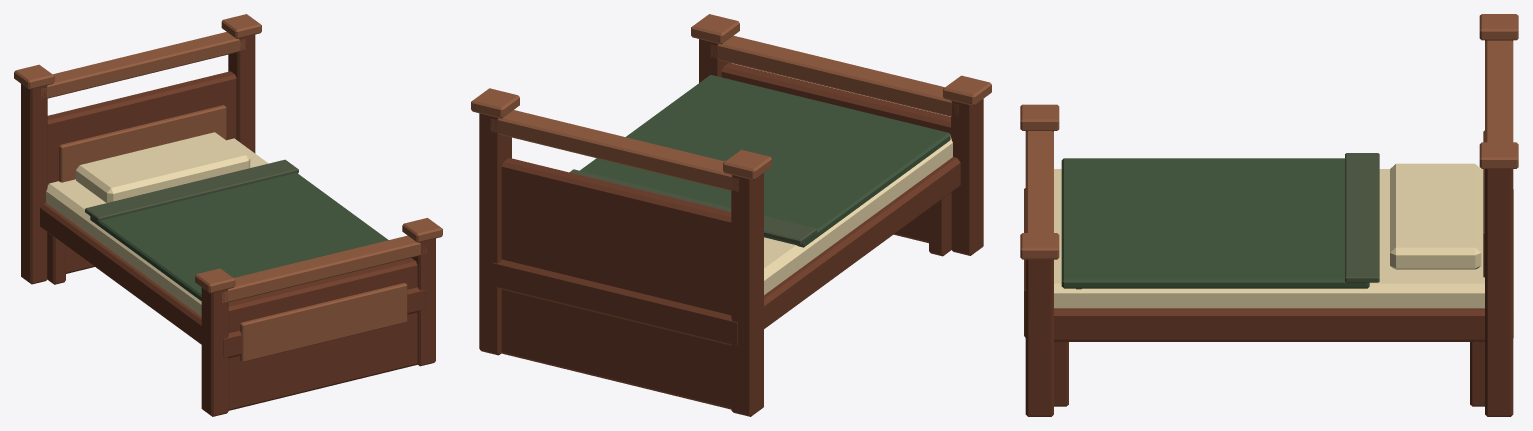
The model's file is bed_02.glb.
3 renders of one model, left to right at view 1: azimuth 30°, elevation 25°; view 2: azimuth 150°, elevation 25°; view 3: azimuth 270°, elevation 25°, orthographic. The views are drawn at different scales.
Visible parts, largest first — view 1: Blanket, HeadFoot_001, HeadFoot, Pillow, Inset_001, Frame, Post, Inset, Crown, Crown_001, Mattress, Fold (+8 smaller); view 2: HeadFoot, Blanket, Frame, Post, Crown, Crown_001, Post_001, Post_002, HeadFoot_001, Mattress, Fold, Leg (+5 smaller); view 3: Blanket, Frame, Mattress, Pillow, Post_001, Post_003, Fold, Crown, Crown_001, Cap, Cap_001, Cap_002 (+3 smaller).
Part boxes in pixels (x1,y1,x2,y2): Blanket: (90, 173, 404, 301); HeadFoot_001: (228, 258, 417, 410); HeadFoot: (47, 71, 236, 273); Pillow: (76, 132, 250, 202); Inset_001: (240, 283, 407, 362); Frame: (40, 203, 425, 357); Post: (21, 84, 47, 284); Inset: (59, 105, 226, 182); Crown: (41, 32, 245, 98); Crown_001: (222, 235, 426, 302); Mattress: (46, 138, 268, 316); Fold: (85, 159, 298, 221); HeadFoot: (501, 158, 731, 409); Blanket: (580, 75, 950, 247); Frame: (492, 157, 960, 345); Post: (731, 173, 763, 416); Crown: (490, 110, 738, 191); Crown_001: (710, 35, 958, 116); Post_001: (479, 113, 511, 355); Post_002: (951, 99, 983, 255); HeadFoot_001: (721, 63, 950, 243); Mattress: (764, 135, 952, 294); Fold: (569, 169, 816, 245); Leg: (929, 192, 951, 256); Blanket: (1061, 158, 1369, 288); Frame: (1025, 189, 1513, 341); Mattress: (1054, 169, 1484, 308); Pillow: (1390, 163, 1481, 269); Post_001: (1485, 169, 1513, 416); Post_003: (1025, 259, 1053, 416); Fold: (1345, 153, 1379, 282); Crown: (1485, 40, 1513, 142); Crown_001: (1025, 131, 1053, 232); Cap: (1479, 14, 1518, 40); Cap_001: (1479, 142, 1518, 168); Cap_002: (1020, 104, 1059, 130).
Size of the model in its own units: 1.58 by 1.33 by 2.29.
